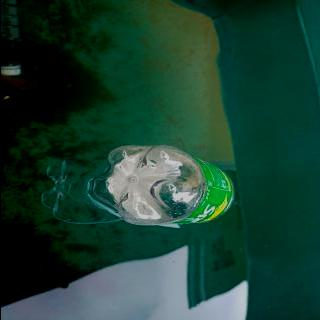bottle: (90, 144, 238, 228)
